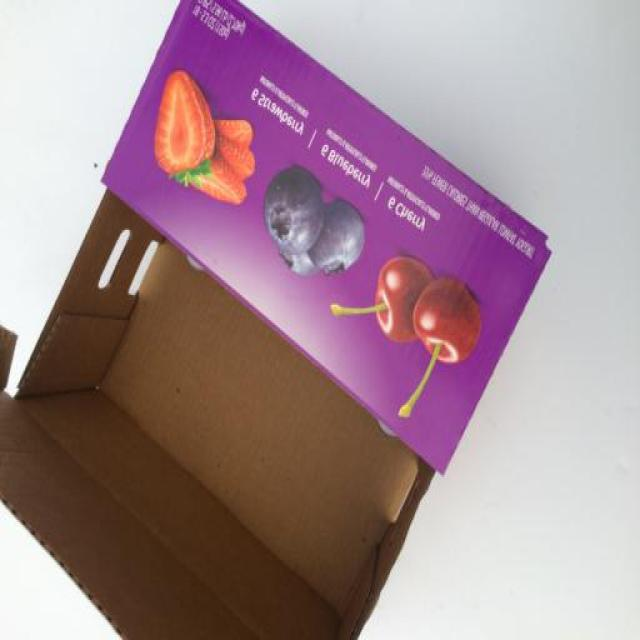cardboard: (0, 0, 552, 640)
